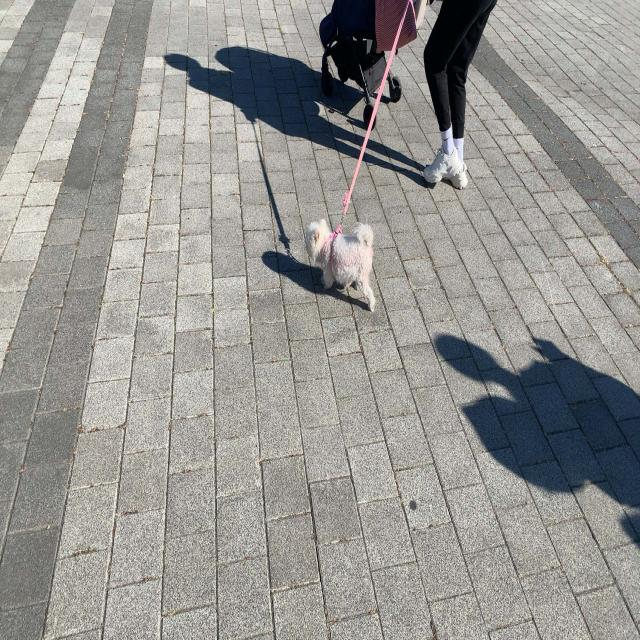Dog: (305, 218, 376, 314)
